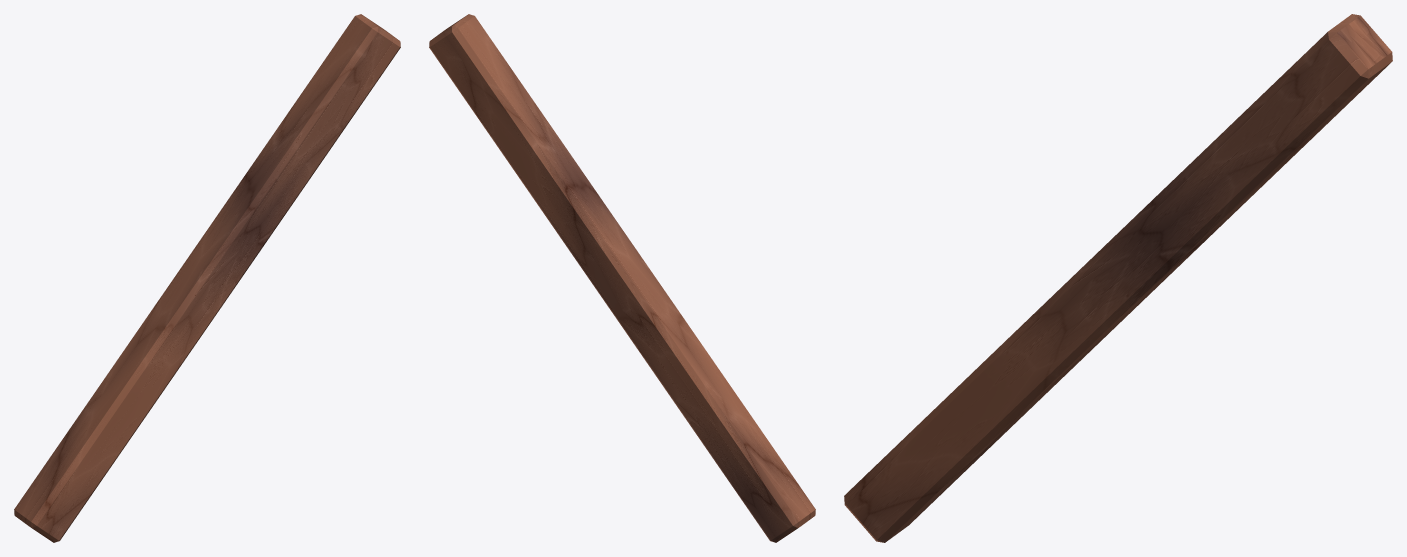
Rendered from Support_Brace.glb.
The picture shows the model from 3 angles, left to right: view 1: azimuth 30°, elevation 25°; view 2: azimuth 150°, elevation 25°; view 3: azimuth 330°, elevation 25°; orthographic projection. The views are drawn at different scales.
Visible parts, largest first — view 1: Support_Brace__立方体; view 2: Support_Brace__立方体; view 3: Support_Brace__立方体.
Part boxes in pixels (bbox=[...]): Support_Brace__立方体: bbox=[14, 14, 400, 542]; Support_Brace__立方体: bbox=[429, 14, 815, 542]; Support_Brace__立方体: bbox=[844, 14, 1392, 542].
Bounding box in the file's own units: 2.13 × 2.41 × 0.22.
Materials: 1 (1 with a texture image).
